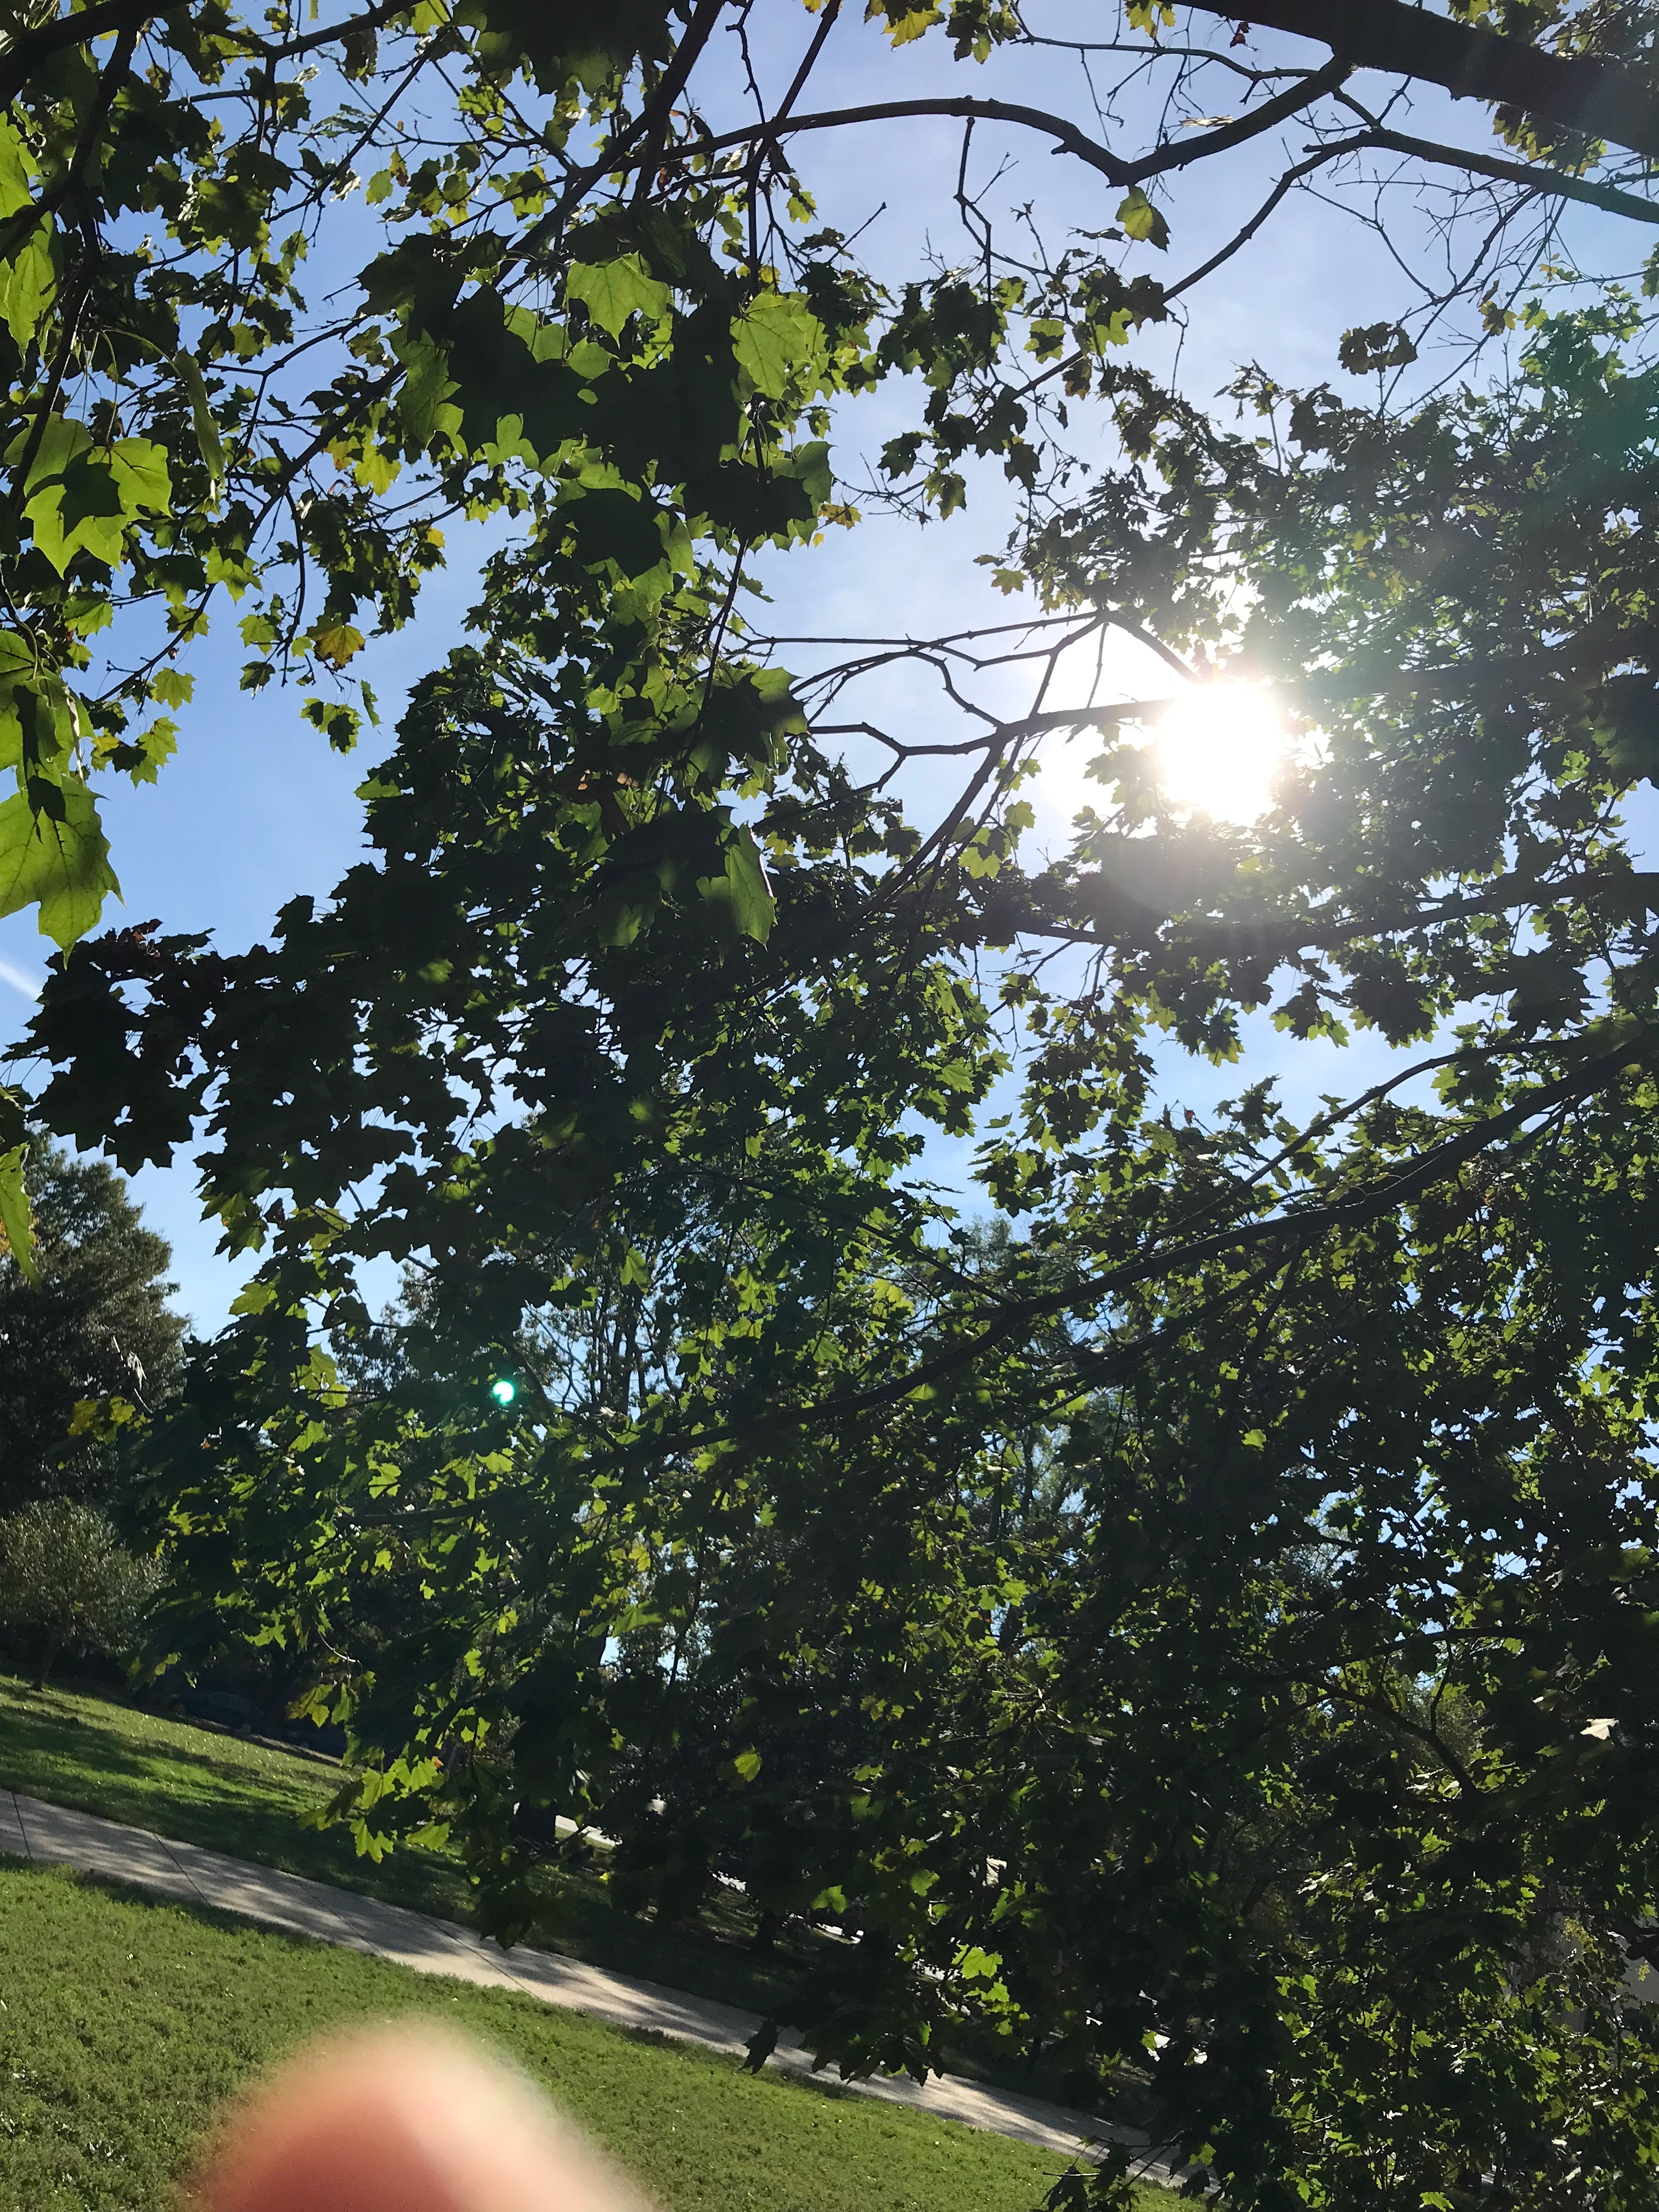flare: (491, 1379, 516, 1406)
